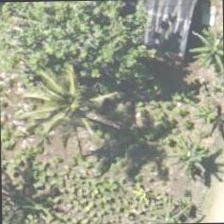Kelapa_Sawit: (23, 57, 115, 149)
